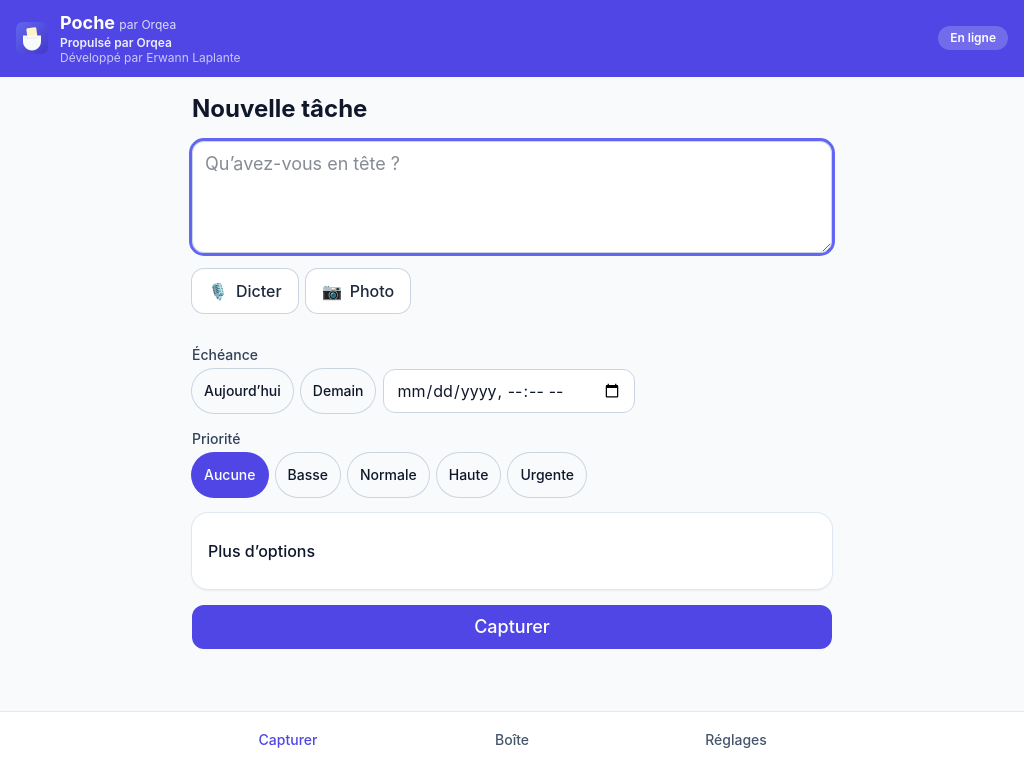
Test: App › captures, toasts, counts pending items and requests background sync
Later steps or results of the test are not shown.
Type "Pain" into the text box named "Tâche".
click(512, 196); type("Pain")  # box [192, 140, 832, 252]
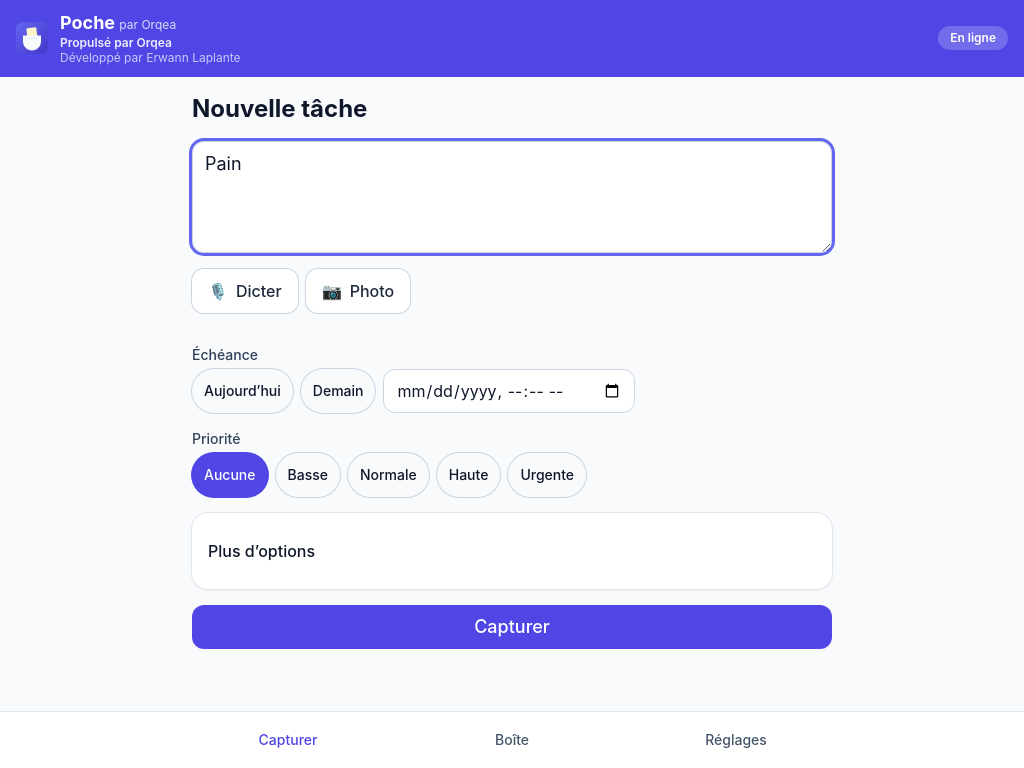
Click the button "Capturer" below "Plus d’options".
click(512, 626)  # box [192, 604, 832, 648]
Wait 4100 ms
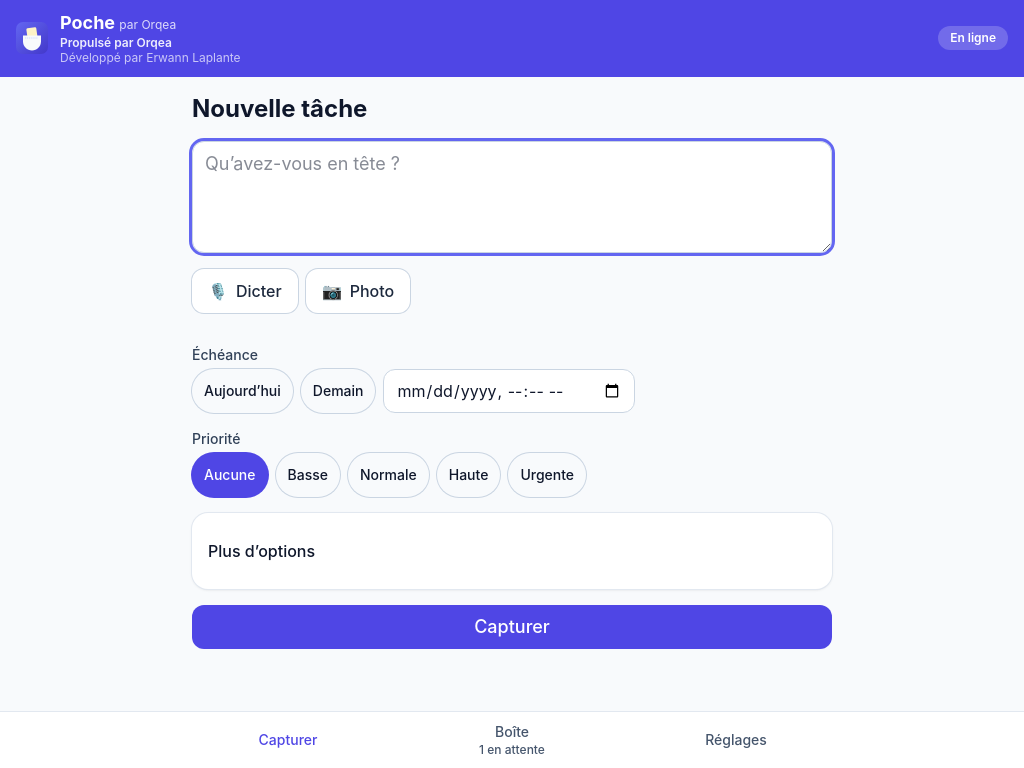
Expected: the text "1 en attente" is shown, [479, 742, 545, 758]
